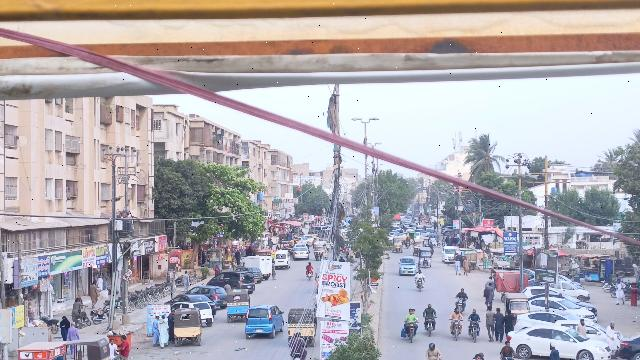Bike: (448, 317, 464, 343), (402, 320, 419, 343), (466, 319, 481, 343), (422, 316, 438, 338), (415, 277, 426, 294), (455, 297, 465, 308)
Car: (509, 326, 611, 360), (243, 303, 285, 337), (396, 255, 420, 277)
Person: (481, 305, 497, 343), (604, 319, 619, 348), (492, 308, 504, 342), (157, 313, 169, 347), (288, 332, 304, 354), (502, 307, 514, 335), (150, 313, 160, 346), (59, 313, 70, 340), (546, 343, 561, 360), (575, 317, 587, 336), (67, 322, 79, 341), (422, 302, 437, 317), (404, 305, 415, 321), (469, 307, 480, 323), (450, 306, 461, 321), (456, 286, 467, 300), (416, 267, 424, 279)
Rickshaw: (286, 307, 317, 346), (173, 307, 203, 347), (224, 287, 251, 324), (503, 292, 529, 317), (418, 247, 433, 268)
Truck: (241, 254, 271, 277)
